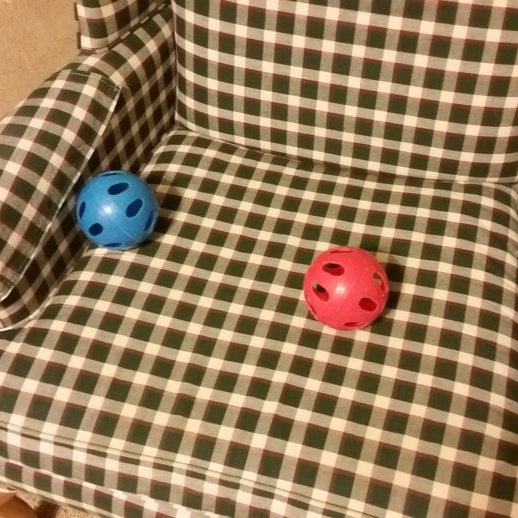ball: (300, 242, 392, 333), (71, 166, 164, 254)
